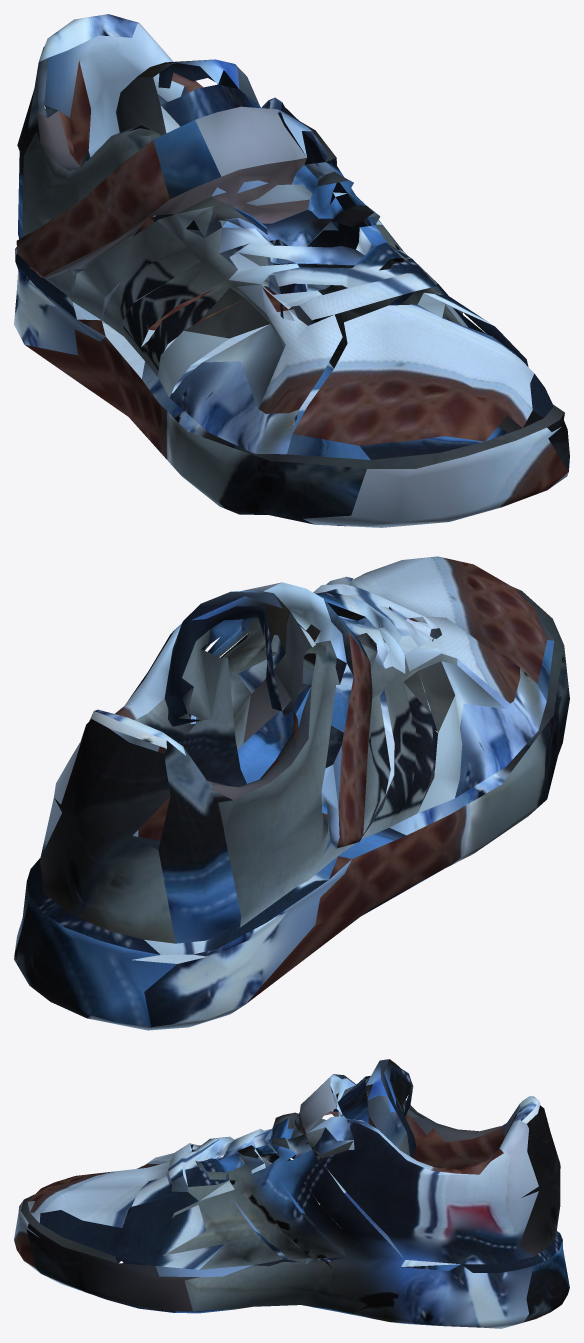
File: Shoes8_R.fbx
3 views of the same model, one above another, from view 1: azimuth 30°, elevation 25°; view 2: azimuth 150°, elevation 25°; view 3: azimuth 270°, elevation 25° (orthographic). The views are drawn at different scales.
Visible parts, largest first — view 1: avaturn_shoes_0.001; view 2: avaturn_shoes_0.001; view 3: avaturn_shoes_0.001.
Boxes of the visible parts, x1=… form: avaturn_shoes_0.001: x1=14, y1=14, x2=569, y2=527; avaturn_shoes_0.001: x1=14, y1=556, x2=569, y2=1030; avaturn_shoes_0.001: x1=14, y1=1059, x2=569, y2=1328.
Size of the model in its own units: 11.78 by 13.31 by 29.8.
